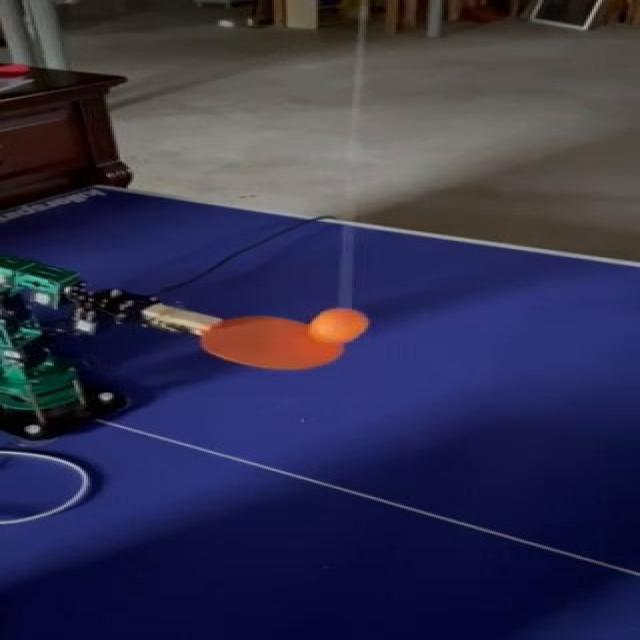ping-pong-ball: (306, 308, 366, 340)
